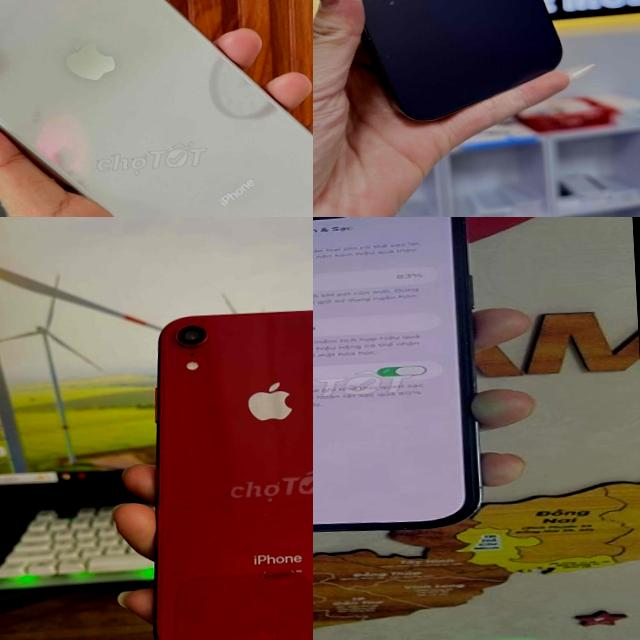gen_12_13: (313, 217, 529, 556)
gen_14: (313, 0, 573, 131)
gen_x_xs: (0, 0, 313, 217), (143, 303, 313, 640)
